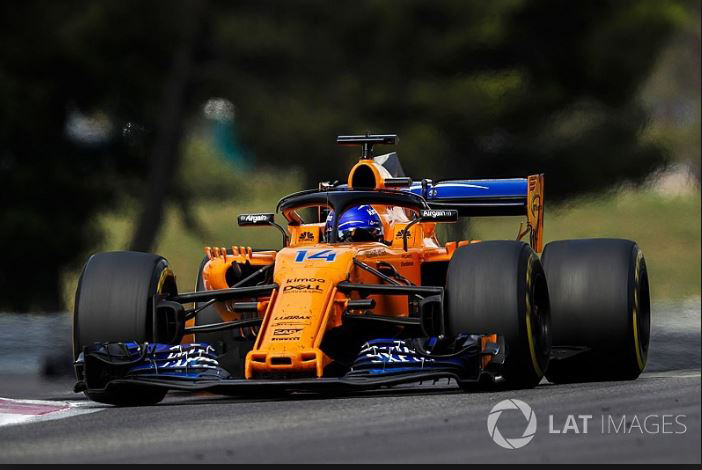F1 Car: (66, 124, 658, 408)
